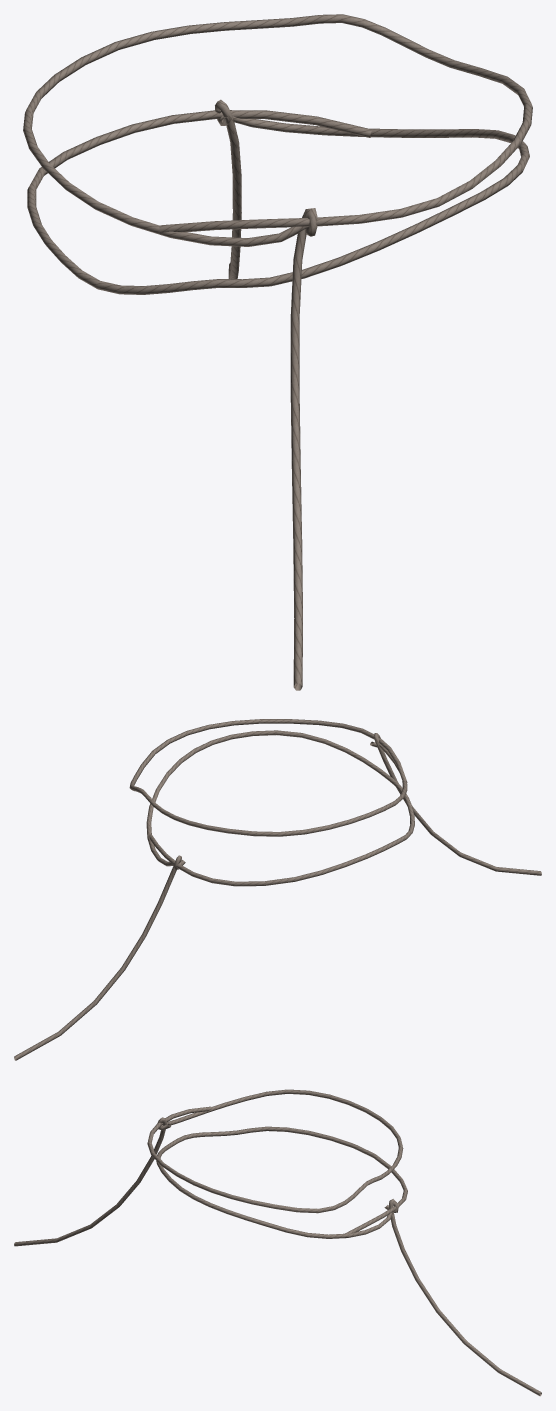
The model's file is SM_TotemRope.fbx.
The picture shows the model from 3 angles, top to bottom: view 1: azimuth 30°, elevation 25°; view 2: azimuth 150°, elevation 25°; view 3: azimuth 270°, elevation 25°; orthographic projection. The views are drawn at different scales.
Visible parts, largest first — view 1: SM_TotemRope_LOD0; view 2: SM_TotemRope_LOD0; view 3: SM_TotemRope_LOD0.
Part boxes in pixels (x1,y1,x2,y2): SM_TotemRope_LOD0: [23, 14, 532, 690]; SM_TotemRope_LOD0: [14, 719, 541, 1060]; SM_TotemRope_LOD0: [14, 1089, 541, 1396].
Size of the model in its own units: 129 by 249 by 107.
